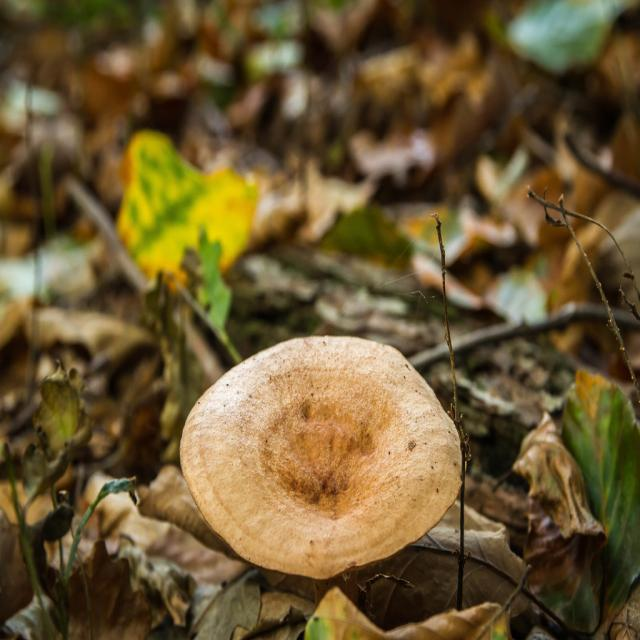Mushroom: (179, 332, 468, 606)
